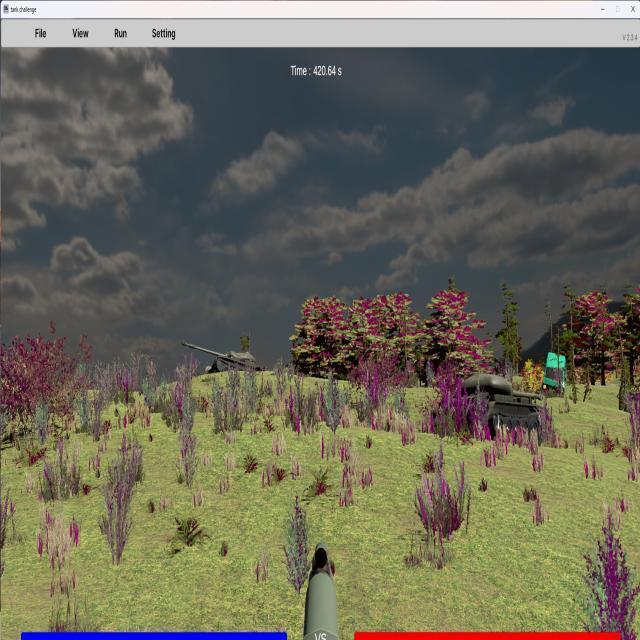Tank: (449, 372, 543, 442), (180, 342, 260, 377)
car: (542, 350, 566, 398)
